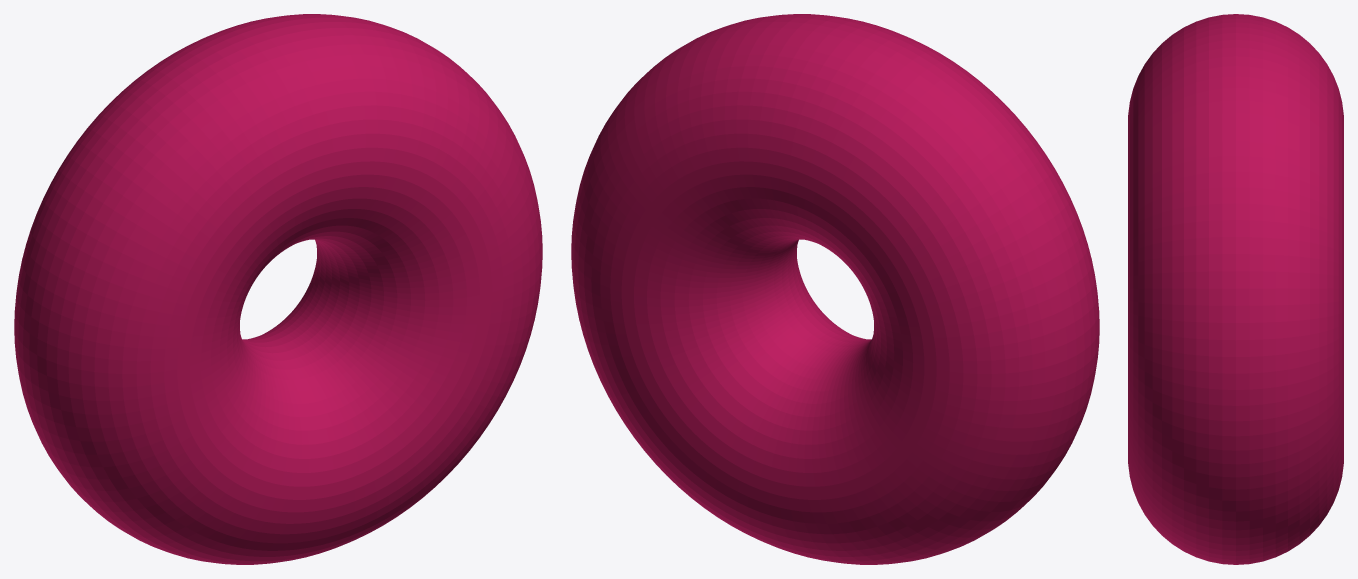
3 views of the same model, side by side, from view 1: azimuth 30°, elevation 25°; view 2: azimuth 150°, elevation 25°; view 3: azimuth 270°, elevation 25° (orthographic). The views are drawn at different scales.
Visible parts, largest first — view 1: world; view 2: world; view 3: world.
Boxes of the visible parts, <box> form: world: <box>14,14,542,564</box>; world: <box>571,14,1099,564</box>; world: <box>1128,14,1343,564</box>.
Bounding box in the file's own units: 24.13 × 24.13 × 9.45.
